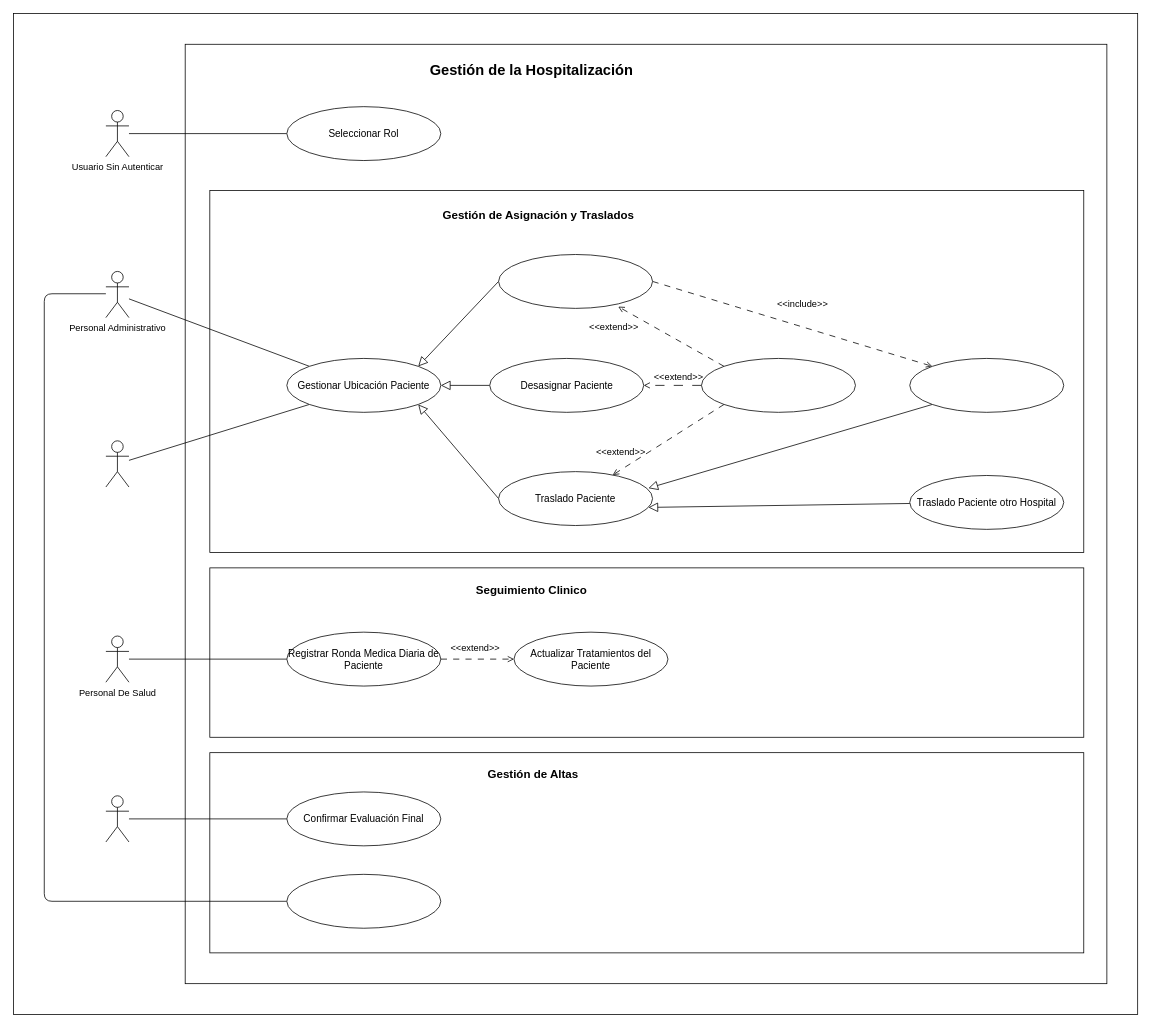
Some shapes in this 1151 by 1028 pixel diagram are drawn without their labels. Each missing label, with the centre of its shape:
"Asignar Paciente" goes at (x=575, y=281).
"Consultar Información Paciente" goes at (x=778, y=385).
"Documentar Alta" goes at (x=363, y=901).
"Medico" goes at (x=117, y=818).
"Personal De Enfermeria" goes at (x=117, y=463).
"Traslado Paciente otra Unidad" goes at (x=986, y=385).
